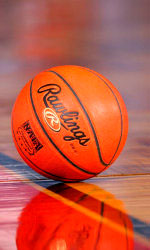basketball: (11, 65, 129, 183)
